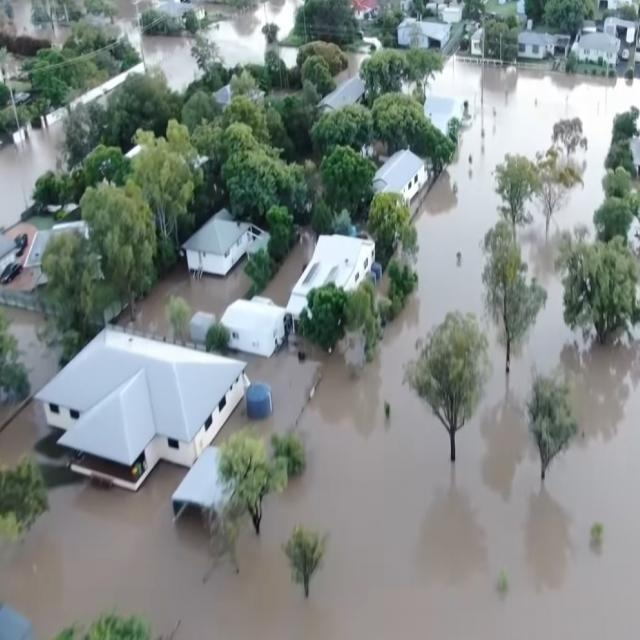flood: (0, 60, 640, 640), (131, 259, 250, 338), (0, 401, 80, 488), (0, 122, 64, 228), (206, 0, 303, 66), (0, 306, 58, 394), (266, 231, 315, 306), (146, 35, 199, 89), (114, 0, 142, 58), (192, 0, 264, 22)
house: (40, 327, 262, 500), (287, 229, 381, 330), (180, 214, 272, 285), (219, 294, 292, 358), (372, 146, 428, 218), (573, 24, 621, 82), (516, 26, 568, 73), (394, 10, 452, 50)
